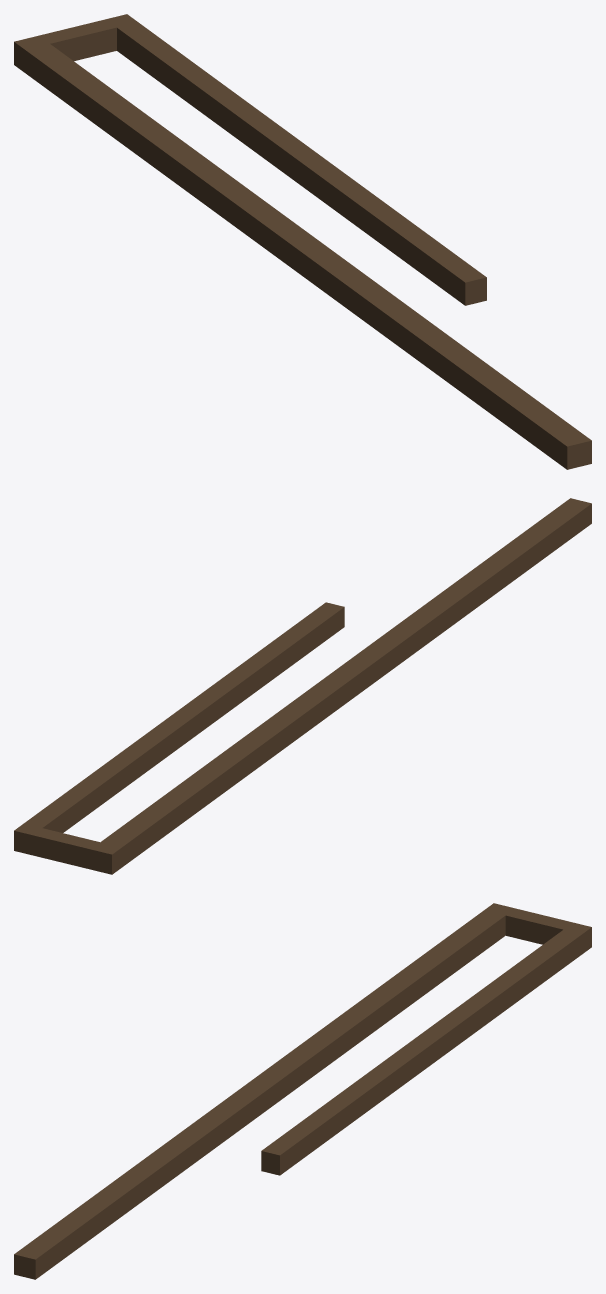
File: veneer_3.fbx
The picture shows the model from 3 angles, top to bottom: view 1: azimuth 30°, elevation 25°; view 2: azimuth 150°, elevation 25°; view 3: azimuth 330°, elevation 25°; orthographic projection. The views are drawn at different scales.
Visible parts, largest first — view 1: Cube.005; view 2: Cube.005; view 3: Cube.005.
Part boxes in pixels (left/top/right/bottom): Cube.005: left=14, top=14, right=591, bottom=469; Cube.005: left=14, top=498, right=591, bottom=874; Cube.005: left=14, top=903, right=591, bottom=1279.
Size of the model in its own units: 142 by 27.91 by 1201.
